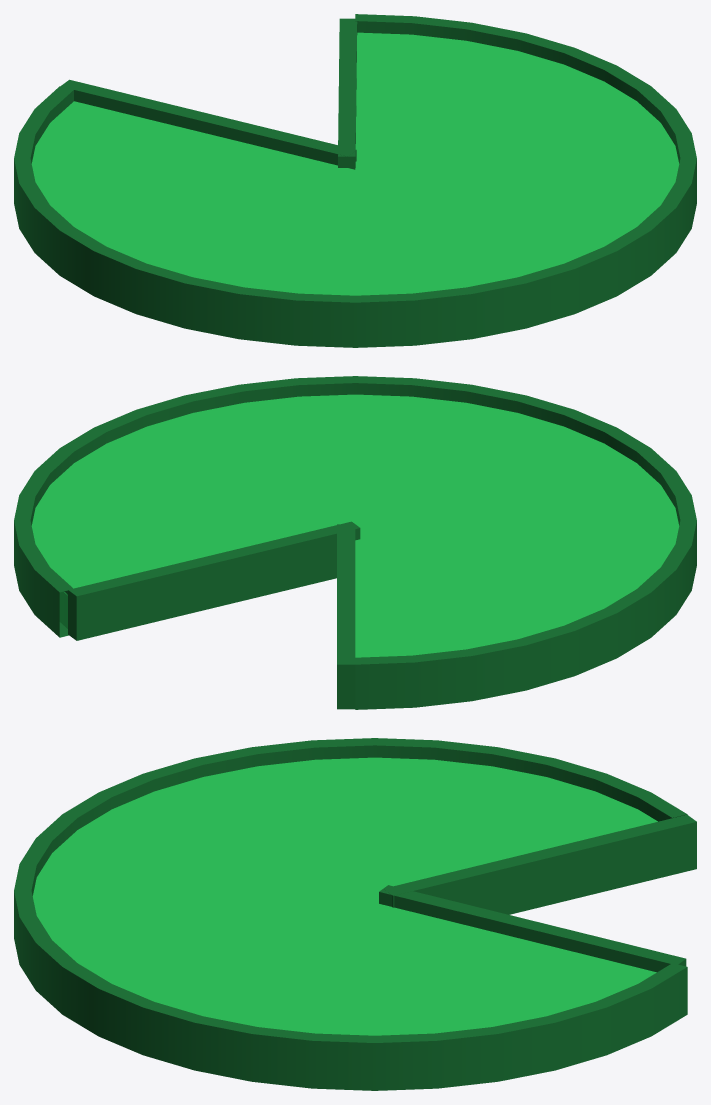
File: лгмырштлф.fbx
The picture shows the model from 3 angles, top to bottom: view 1: azimuth 30°, elevation 25°; view 2: azimuth 150°, elevation 25°; view 3: azimuth 270°, elevation 25°; orthographic projection. The views are drawn at different scales.
Visible parts, largest first — view 1: Объект_Цилиндр, Объект_Труба, Объект_Куб_1, Объект_Куб; view 2: Объект_Цилиндр, Объект_Труба, Объект_Куб, Объект_Куб_1; view 3: Объект_Цилиндр, Объект_Труба, Объект_Куб_1, Объект_Куб.
Part boxes in pixels (x1,y1,x2,y2): Объект_Цилиндр: (31,32,679,295); Объект_Труба: (14,14,696,347); Объект_Куб_1: (61,79,356,165); Объект_Куб: (338,18,357,169); Объект_Цилиндр: (31,394,679,657); Объект_Труба: (14,376,696,709); Объект_Куб: (68,521,360,640); Объект_Куб_1: (337,524,355,709); Объект_Цилиндр: (32,757,657,1035); Объект_Труба: (14,738,687,1090); Объект_Куб_1: (384,814,696,914); Объект_Куб: (379,885,686,972).
Bounding box in the file's own units: 150 × 10.99 × 142.
